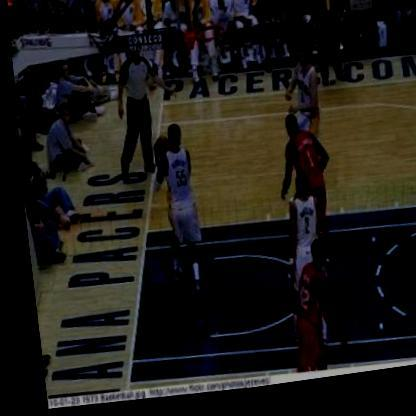basketball: (150, 140, 168, 163)
